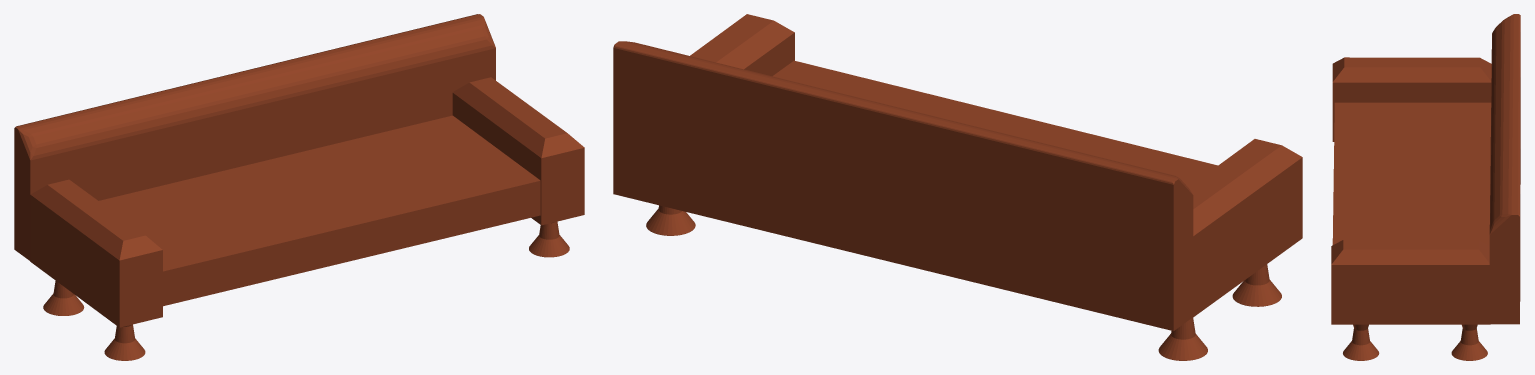
File: sofa.fbx
3 renders of one model, left to right at view 1: azimuth 30°, elevation 25°; view 2: azimuth 150°, elevation 25°; view 3: azimuth 270°, elevation 25°, orthographic. The views are drawn at different scales.
Parts seen in each view (by area): view 1: Plane.001, Plane.002, Plane, Cylinder; view 2: Plane.002, Plane, Plane.001, Cylinder; view 3: Plane.001, Plane, Plane.002, Cylinder.
Boxes of the visible parts, bbox=[...] form: Plane.001: bbox=[99, 115, 540, 306]; Plane.002: bbox=[14, 14, 495, 260]; Plane: bbox=[30, 77, 584, 327]; Cylinder: bbox=[43, 221, 569, 360]; Plane.002: bbox=[613, 41, 1193, 331]; Plane: bbox=[690, 14, 1302, 317]; Plane.001: bbox=[773, 60, 1217, 187]; Cylinder: bbox=[646, 205, 1281, 360]; Plane.001: bbox=[1332, 102, 1491, 245]; Plane: bbox=[1331, 57, 1491, 324]; Plane.002: bbox=[1489, 14, 1520, 324]; Cylinder: bbox=[1343, 324, 1487, 360].
Size of the model in its own units: 263 by 89.27 by 105.
